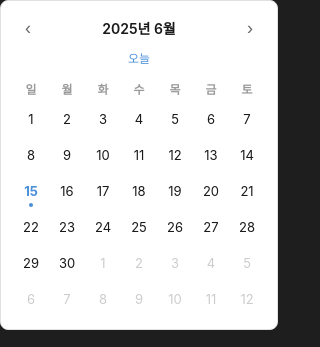
Scenario: Calendar › navigation › navigates to next month
The width and height of the screenshot is (320, 347).
Step 1. Click the button named "다음 달" → point(250, 28), box [235,13,265,43]
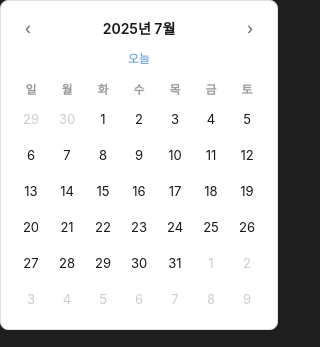
Expected: the text "2025년 7월" is shown, [103,18,175,38]
